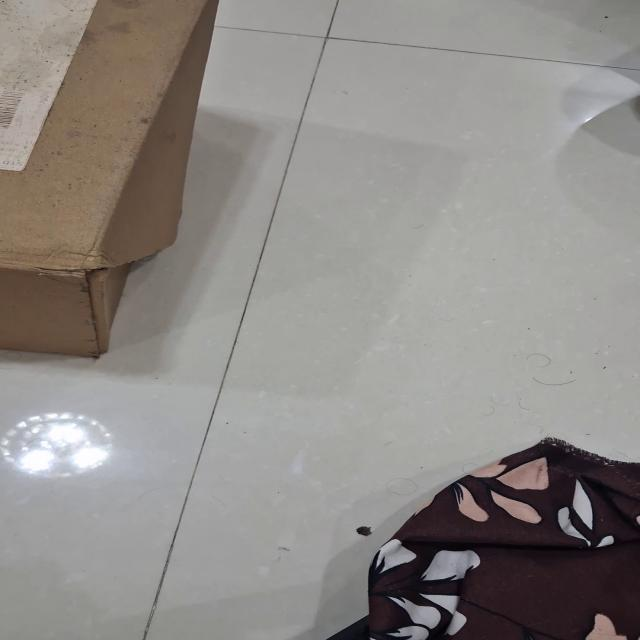paper: (2, 0, 638, 639), (364, 436, 638, 639)
